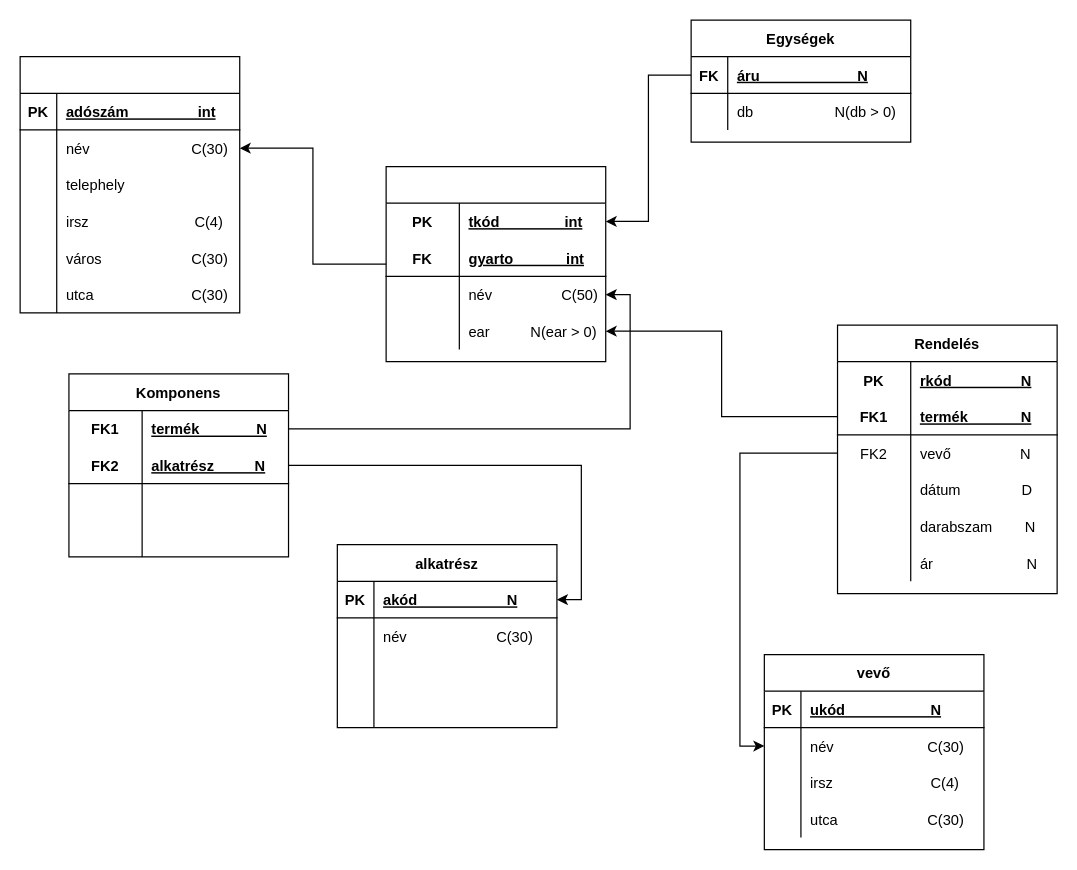
The diagram is 1077 pixels wide and 870 high, and some of its shapes have lost their labels. The box of each missing label's shape, as (x1, y1, x2, y2) in pixels:
Gyártó: (19, 56, 240, 313)
Termék: (385, 165, 606, 362)
